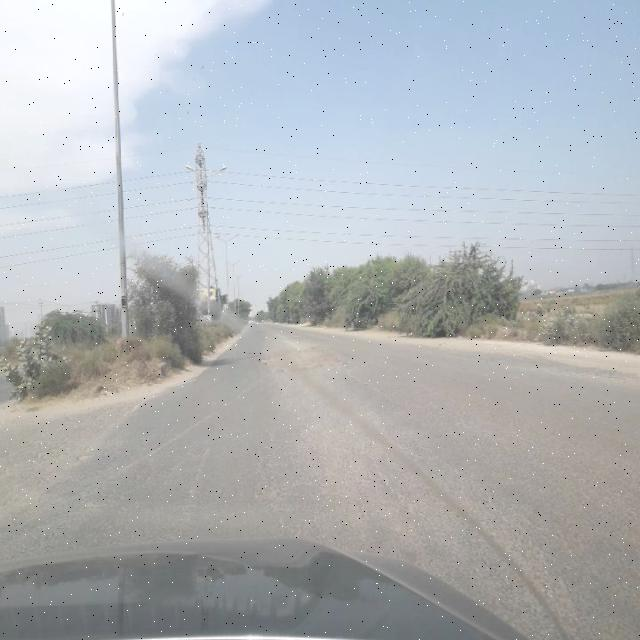D00: (362, 447, 437, 536)
